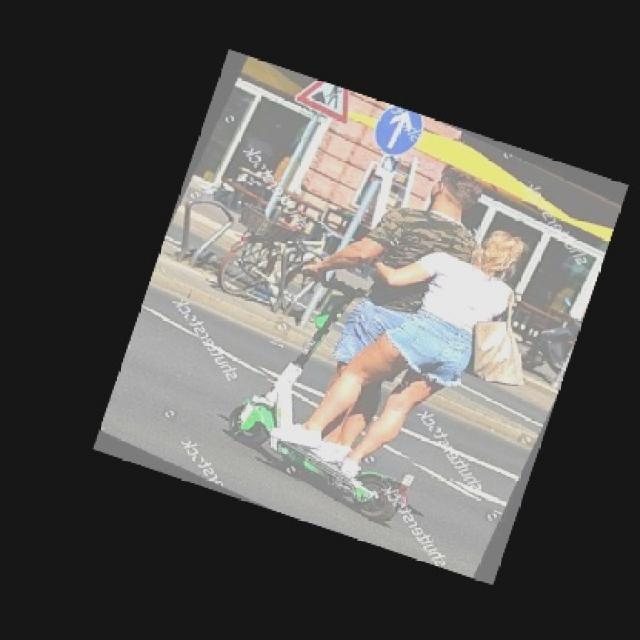bare_head: (430, 159, 485, 216), (470, 225, 524, 274)
human: (287, 229, 524, 462), (288, 156, 483, 439)
kickboard: (219, 381, 415, 528)
